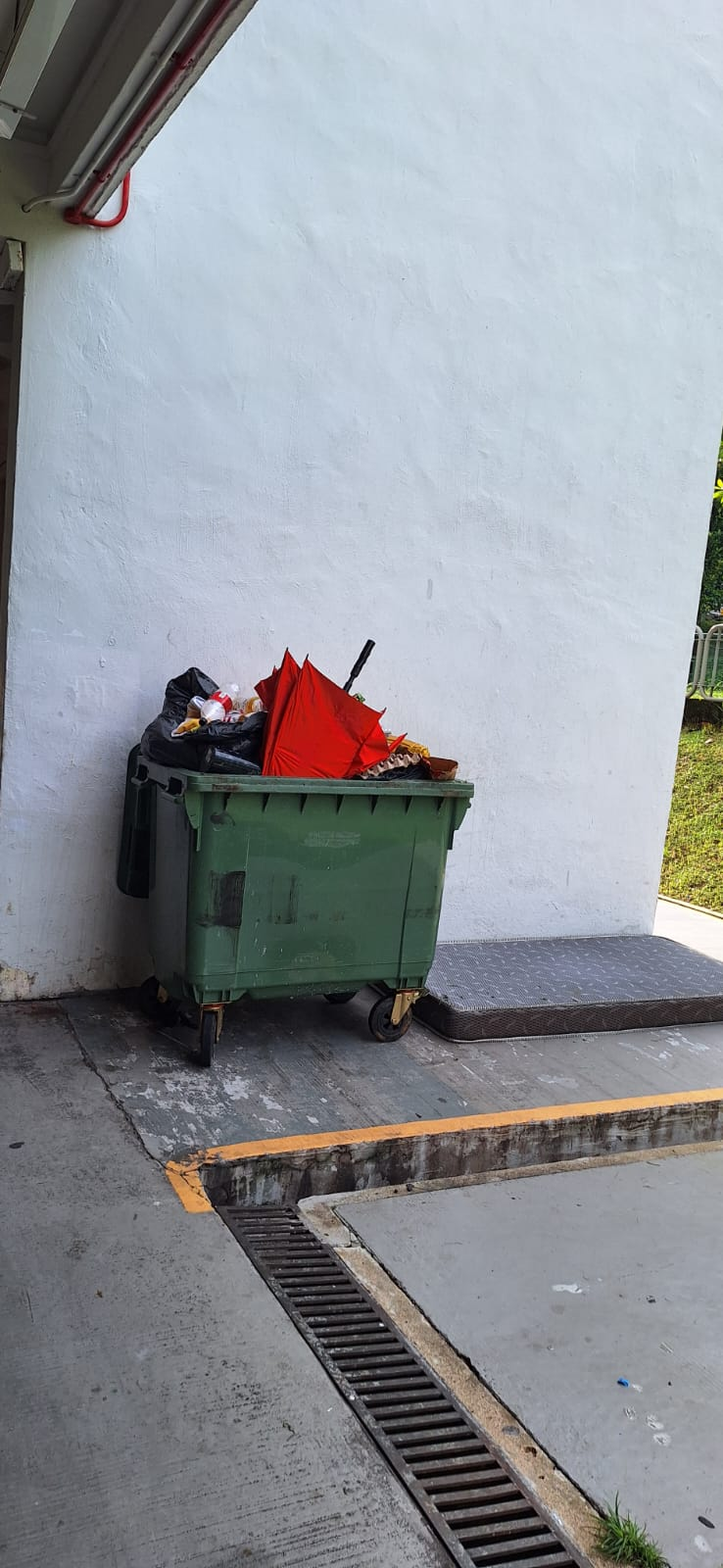bin_full: (117, 641, 473, 1066)
